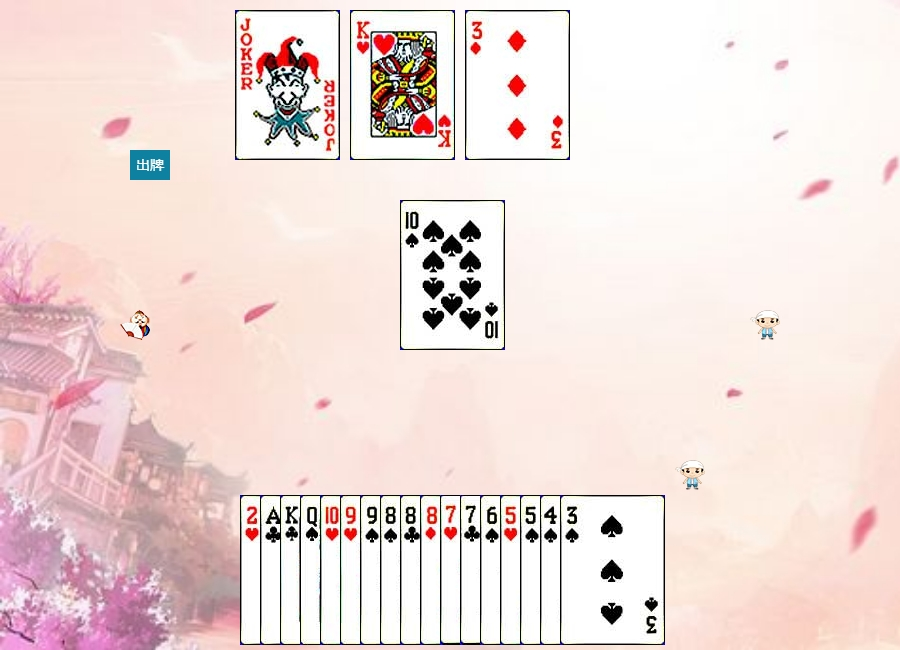10~3: (320, 495, 425, 645)
10~4: (400, 200, 505, 350)
12~4: (300, 495, 405, 645)
13~2: (280, 495, 385, 645)
13~3: (350, 10, 455, 160)
14~2: (260, 495, 365, 645)
15~3: (240, 495, 345, 645)
18~4: (235, 10, 340, 160)
3~1: (465, 10, 570, 160)
3~4: (560, 495, 665, 645)
4~4: (540, 495, 645, 645)
5~3: (500, 495, 605, 645)
5~4: (520, 495, 625, 645)
6~4: (480, 495, 585, 645)
7~2: (460, 495, 565, 645)
7~3: (440, 495, 545, 645)
8~1: (420, 495, 525, 645)
8~2: (400, 495, 505, 645)
8~4: (380, 495, 485, 645)
9~3: (340, 495, 445, 645)
9~4: (360, 495, 465, 645)
